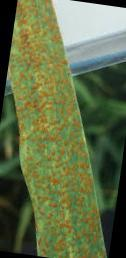Wheat: (28, 137, 100, 247), (18, 29, 71, 131)
